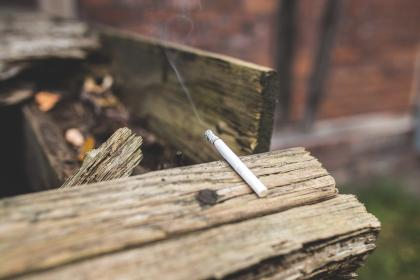cigarette: (202, 126, 271, 200)
